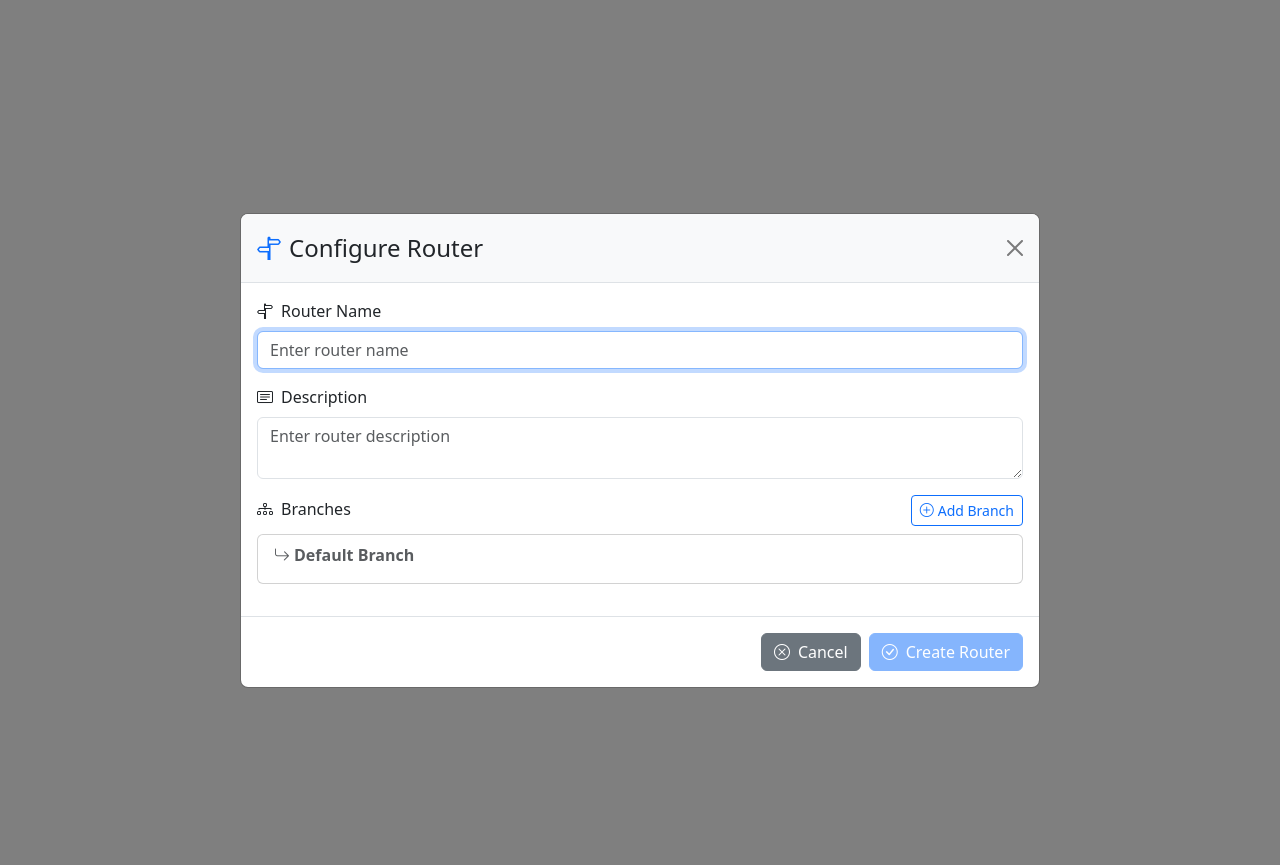
Scenario: RouterConfigModal › removes branch when remove button clicked
This screenshot has width=1280, height=865.
Click the button "Add Branch" at (967, 510), box [911, 494, 1023, 526]
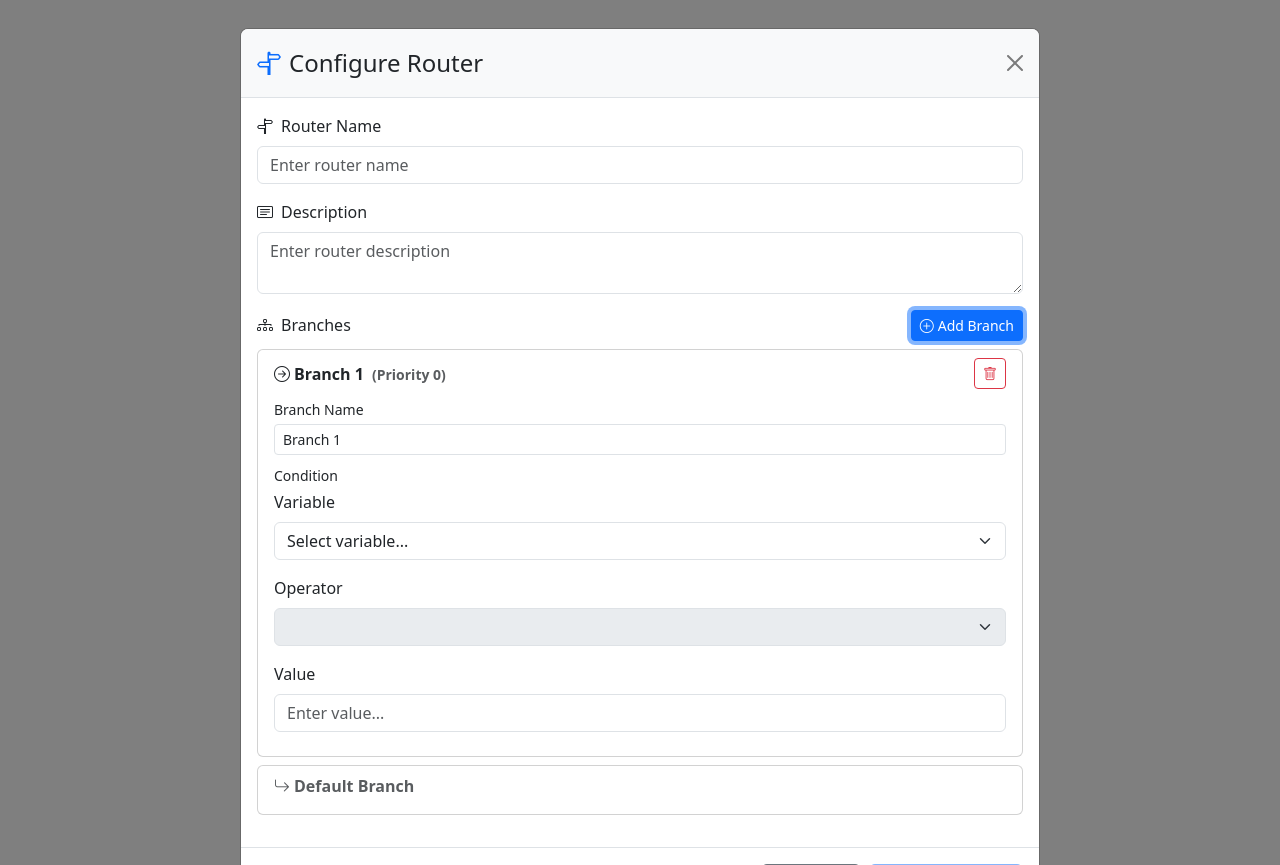
Click the button named "remove branch 1" at (990, 374), box [974, 358, 1006, 389]
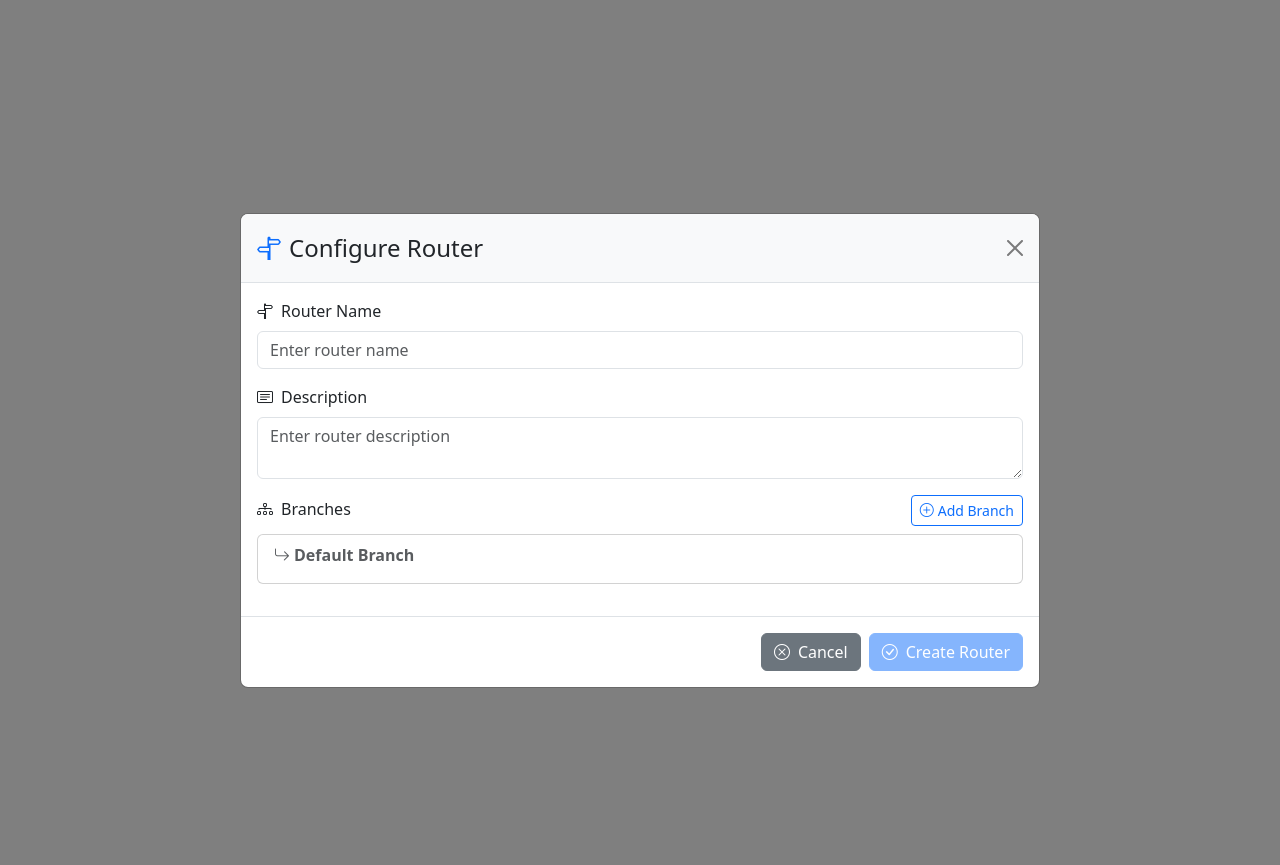
Check: the text "Branch 1" is gone
